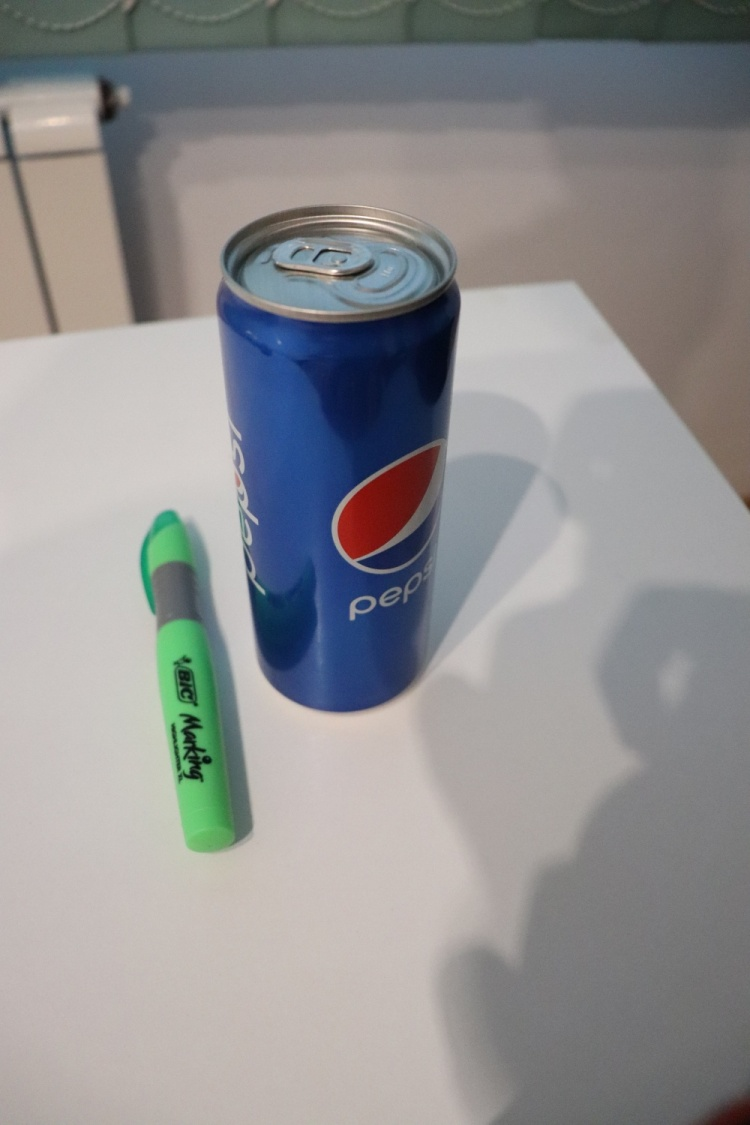pepsi: (208, 198, 476, 730)
